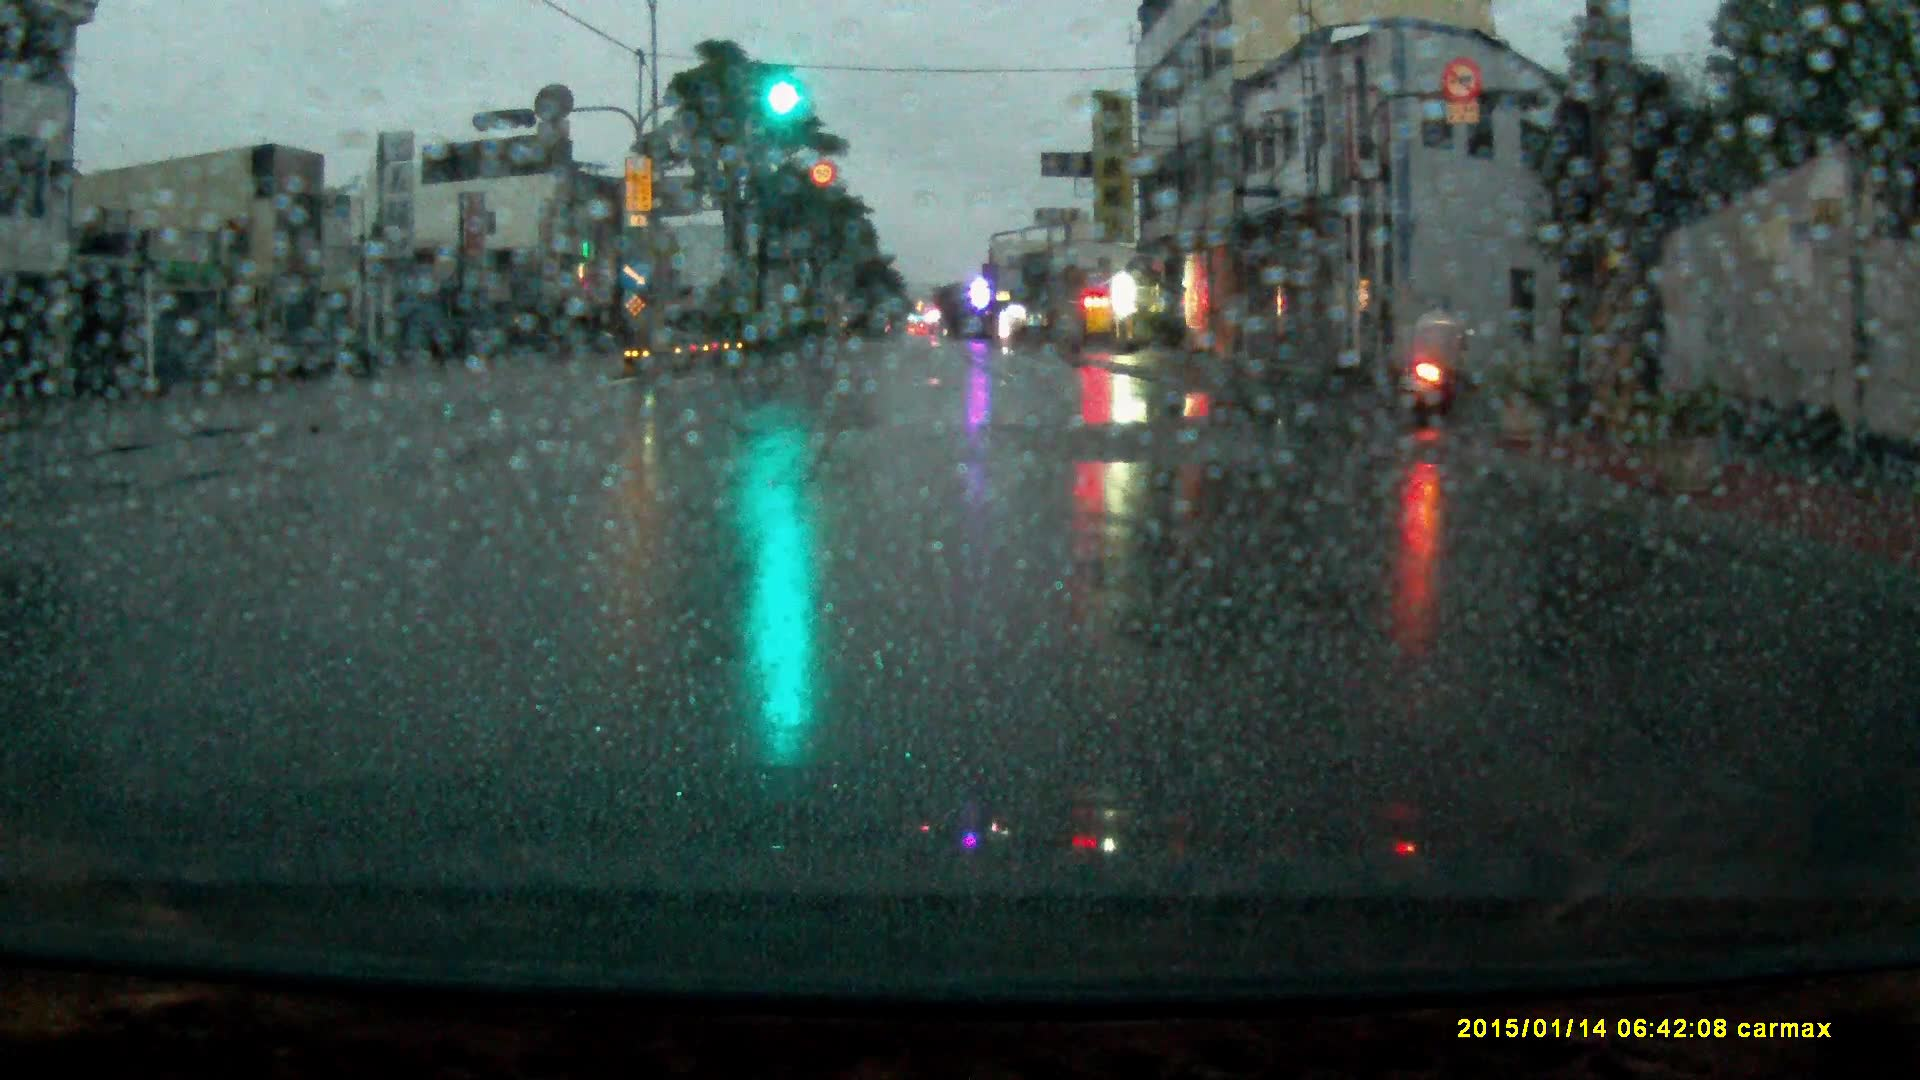rider: (1405, 289, 1480, 423)
